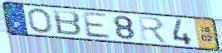4: (172, 18, 194, 48)
8: (113, 15, 137, 40)
B: (52, 9, 83, 37)
E: (81, 11, 113, 40)
O: (26, 7, 54, 35)
R: (137, 15, 170, 45)
